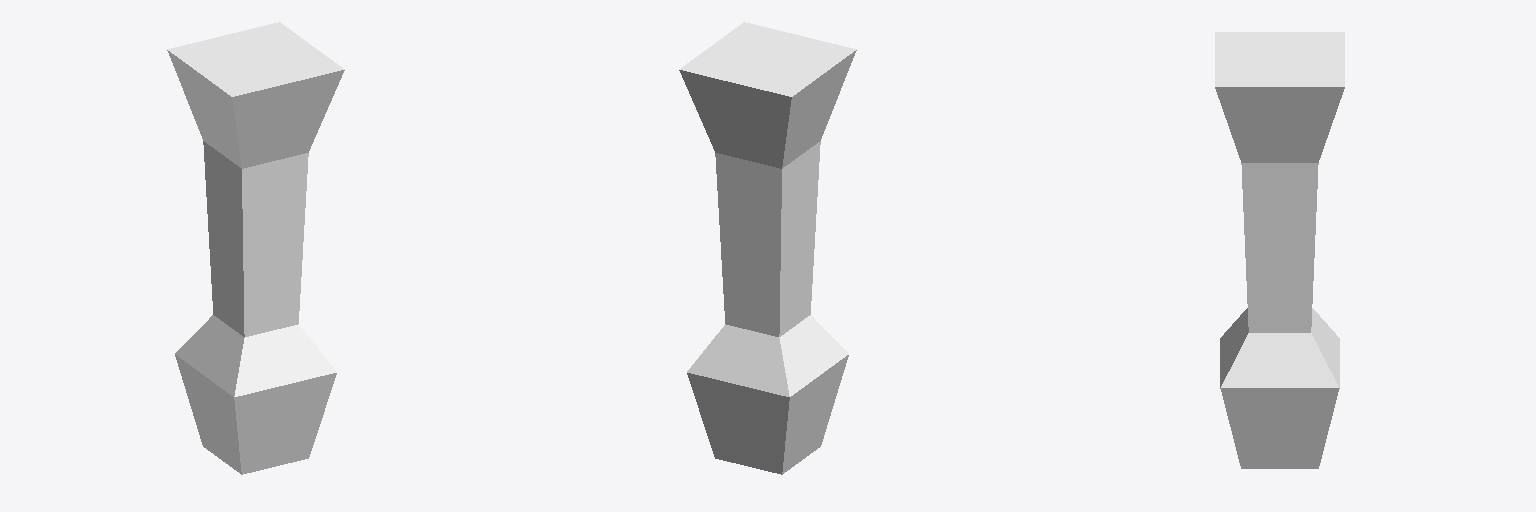
File: Overhang3.obj
3 views of the same model, side by side, from view 1: azimuth 30°, elevation 25°; view 2: azimuth 150°, elevation 25°; view 3: azimuth 270°, elevation 25° (orthographic).
Parts seen in each view (by area): view 1: Overhang3; view 2: Overhang3; view 3: Overhang3.
Part boxes in pixels (left/top/right/bottom): Overhang3: left=167, top=22, right=344, bottom=474; Overhang3: left=679, top=22, right=856, bottom=474; Overhang3: left=1215, top=32, right=1344, bottom=468.
Bounding box in the file's own units: 1.69 × 5.61 × 1.69.